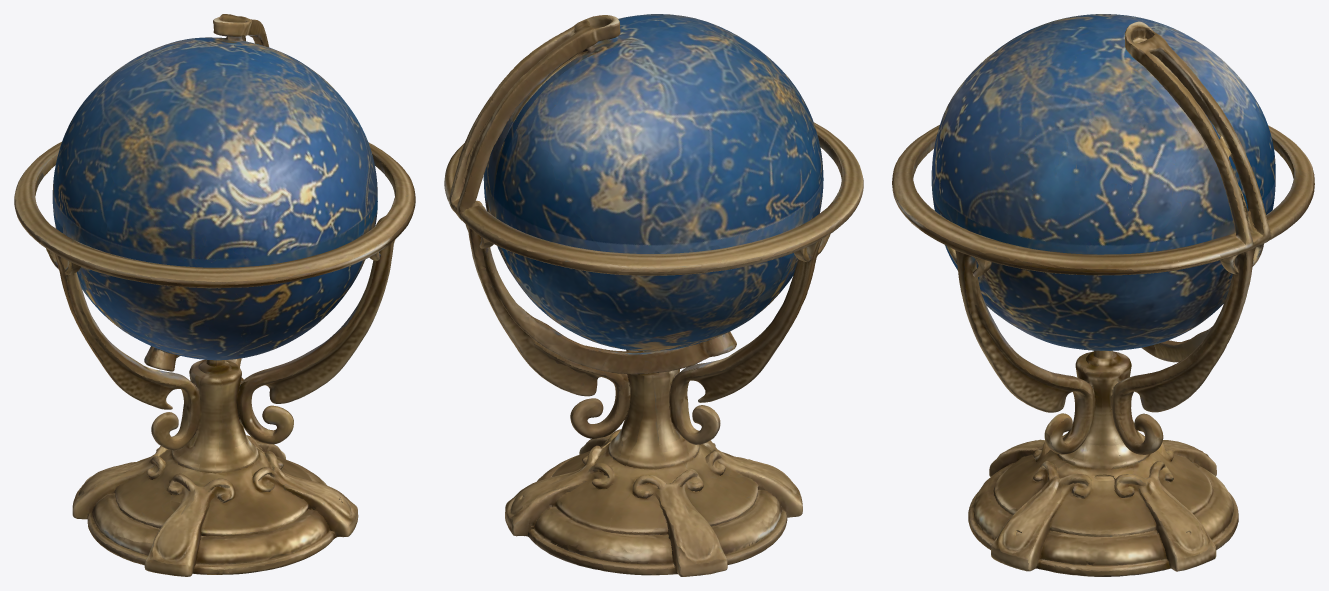
File: globe.glb
3 views of the same model, side by side, from view 1: azimuth 30°, elevation 25°; view 2: azimuth 150°, elevation 25°; view 3: azimuth 270°, elevation 25° (orthographic). The views are drawn at different scales.
Visible parts, largest first — view 1: geometry_0; view 2: geometry_0; view 3: geometry_0.
Part boxes in pixels (<box>): geometry_0: <box>14,14,415,576</box>; geometry_0: <box>444,14,863,576</box>; geometry_0: <box>892,14,1314,576</box>.
Bounding box in the file's own units: 0.2856 × 0.38 × 0.2866.
1 material, 1 textured.
